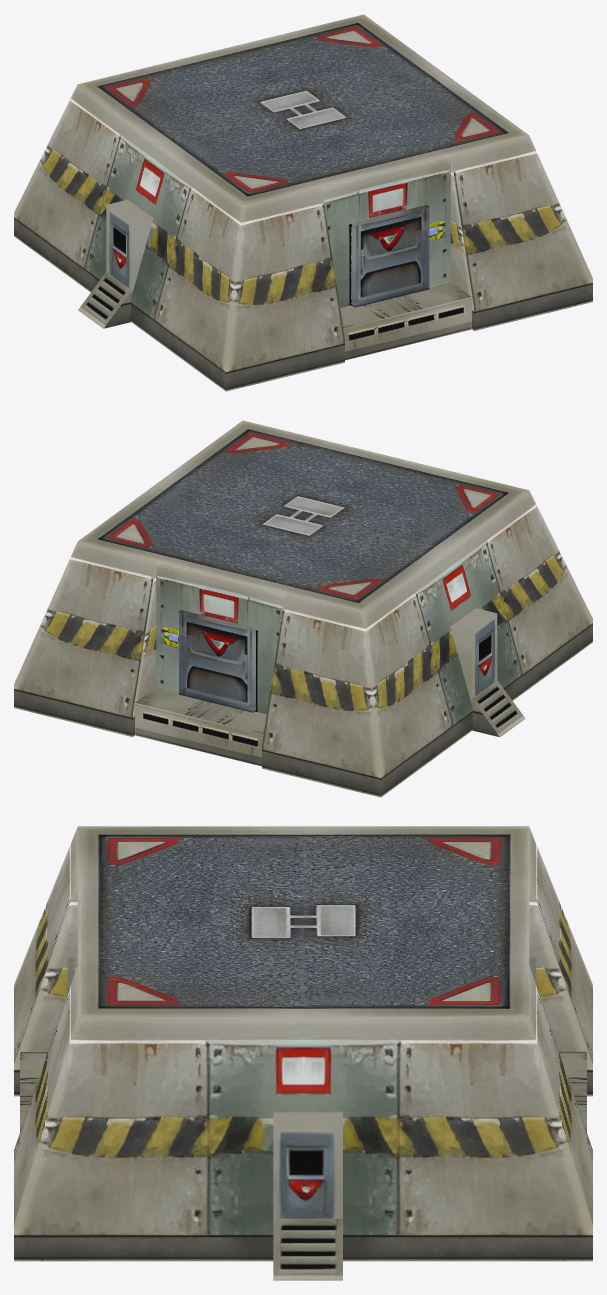
Rendered from ammodump_hdtex.glb.
3 views of the same model, one above another, from view 1: azimuth 30°, elevation 25°; view 2: azimuth 150°, elevation 25°; view 3: azimuth 270°, elevation 25° (orthographic). The views are drawn at different scales.
Parts seen in each view (by area): view 1: Ammo Dump, garage door; view 2: Ammo Dump, garage door; view 3: Ammo Dump.
Part boxes in pixels (left/top/right/bottom): Ammo Dump: left=14, top=14, right=592, bottom=391; garage door: left=352, top=205, right=429, bottom=307; Ammo Dump: left=14, top=420, right=592, bottom=797; garage door: left=179, top=610, right=255, bottom=712; Ammo Dump: left=14, top=826, right=592, bottom=1280.
Size of the model in its own units: 16.28 by 5.87 by 14.13.
Materials: 1 (1 with a texture image).
